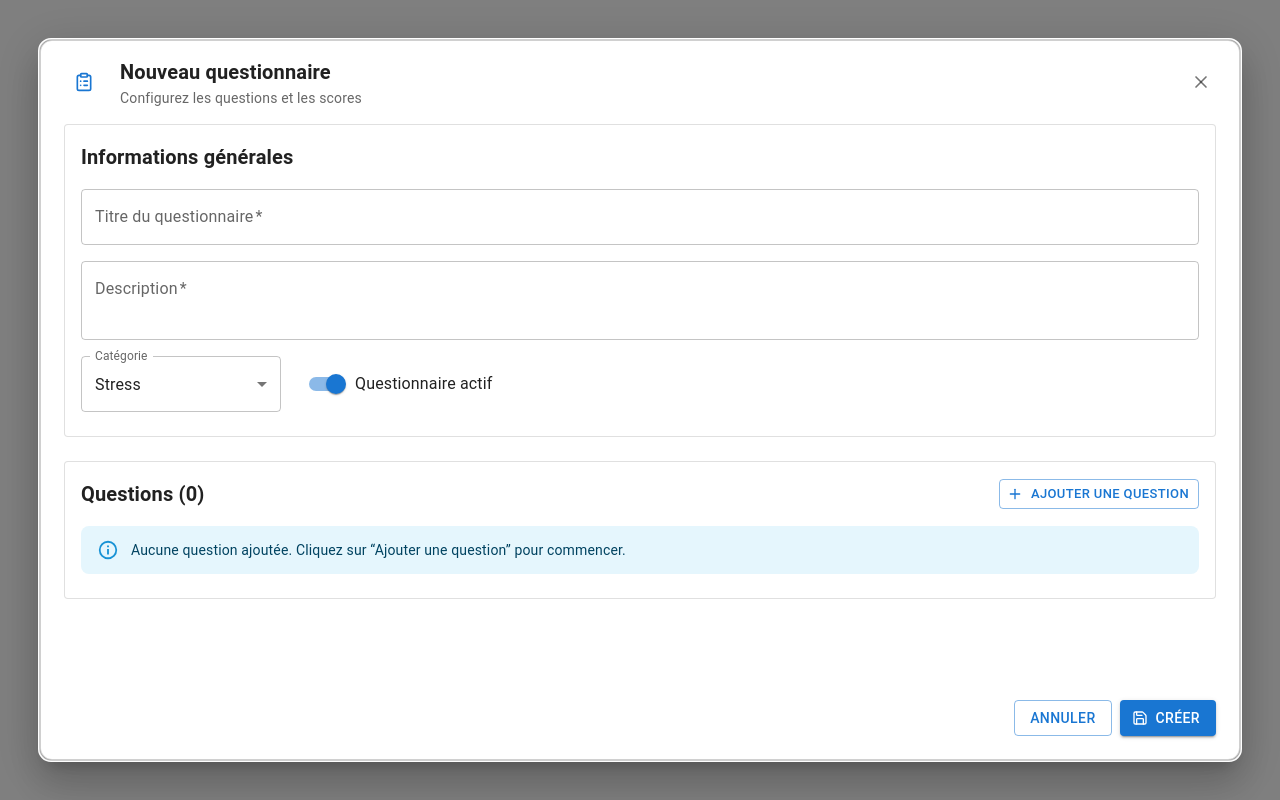
Test: QuestionnaireModal › affiche l'erreur "Au moins une question est requise"
The image size is (1280, 800).
Type "Mon questionnaire" into the field labelled "Titre du questionnaire *".
click(640, 217); type("Mon questionnaire")  # box [81,189,1199,245]
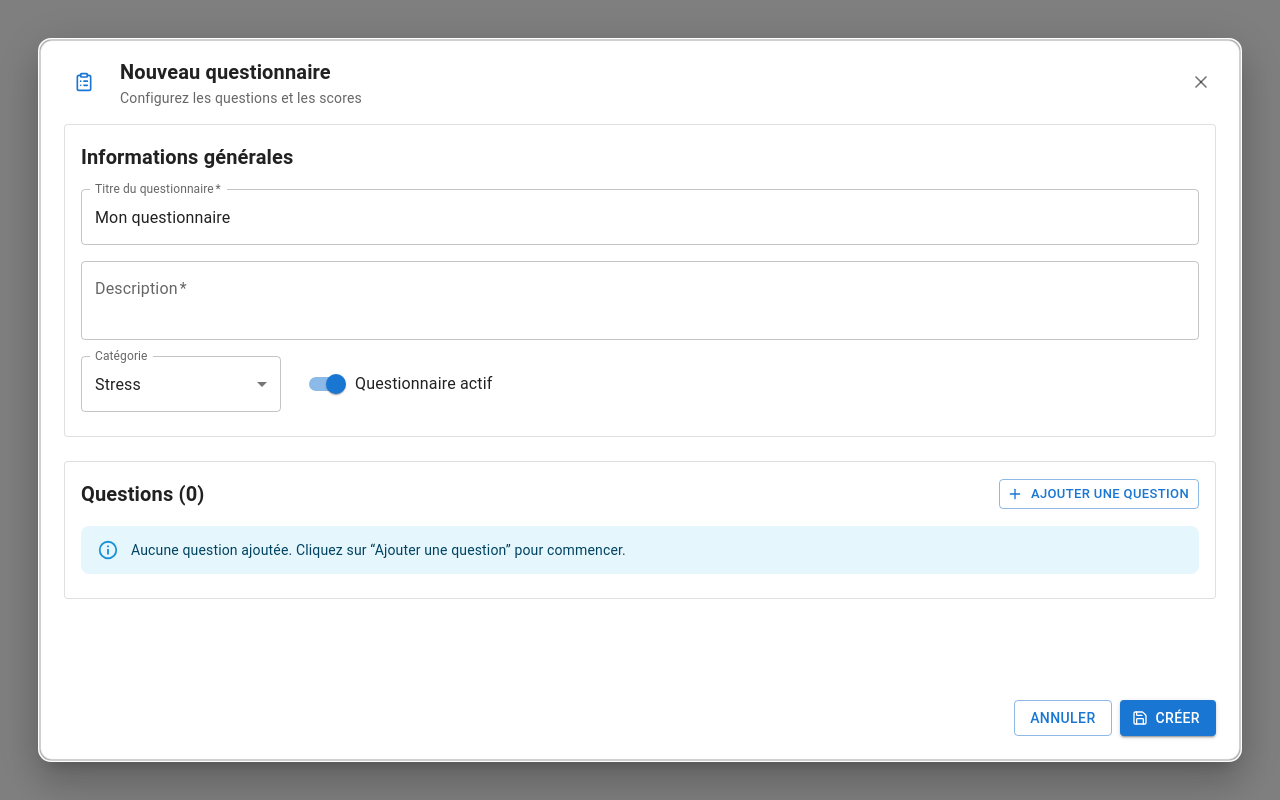
Type "Une description valide" into the text box labelled "Description *".
click(640, 300); type("Une description valide")  # box [95,278,1185,324]
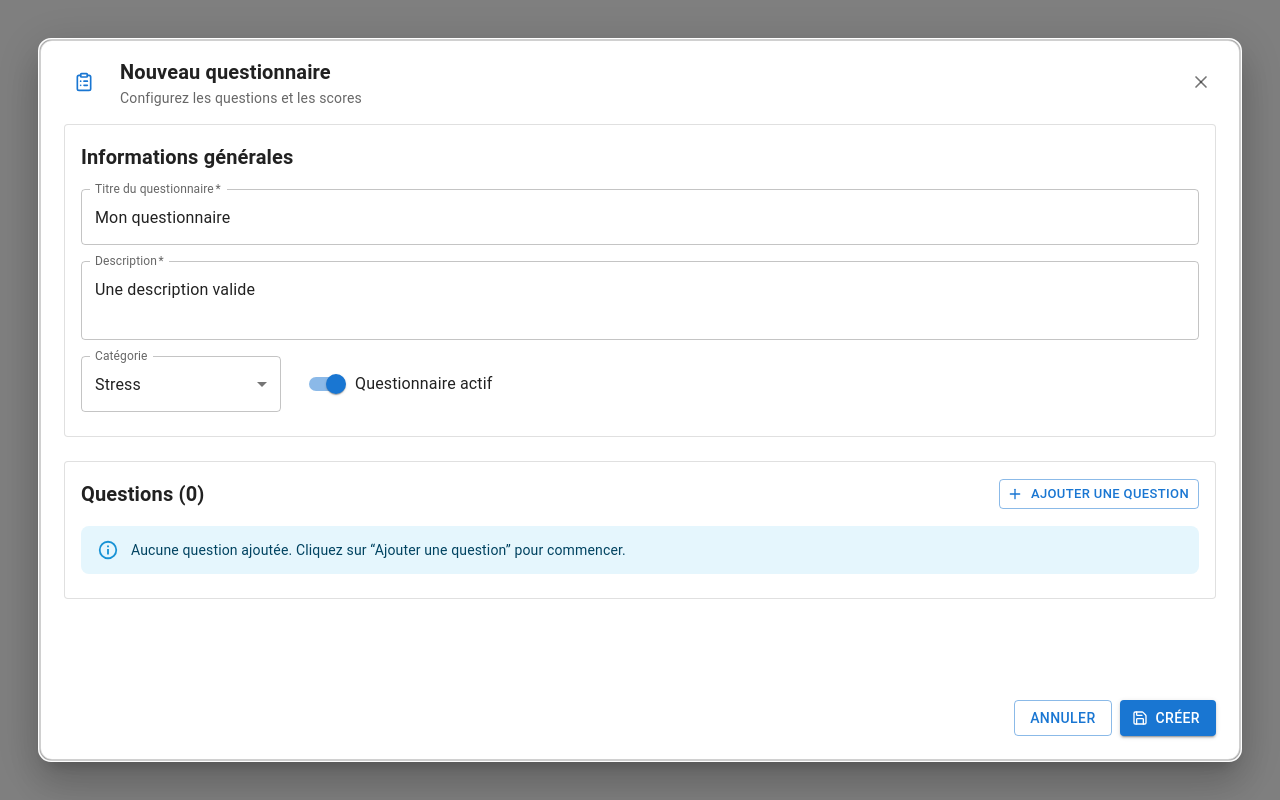
Click the button "Créer".
click(1168, 718)  # box [1120,700,1216,736]
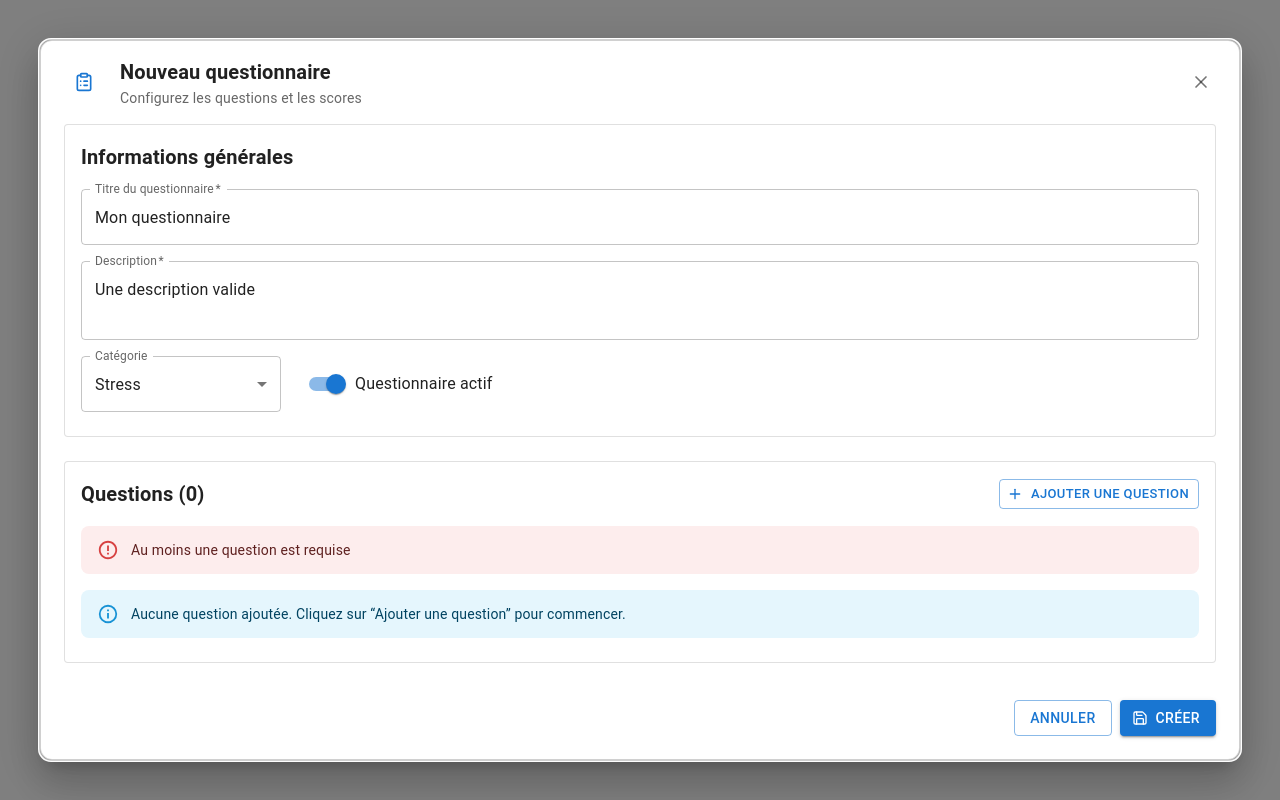
Now the text "Au moins une question est requise" is shown, box [131,542,351,558]
